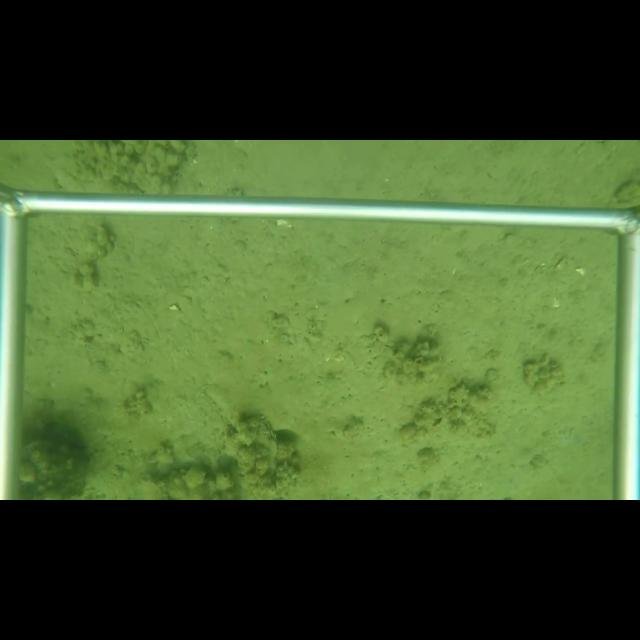Oyster-Closed: (220, 414, 280, 491)
